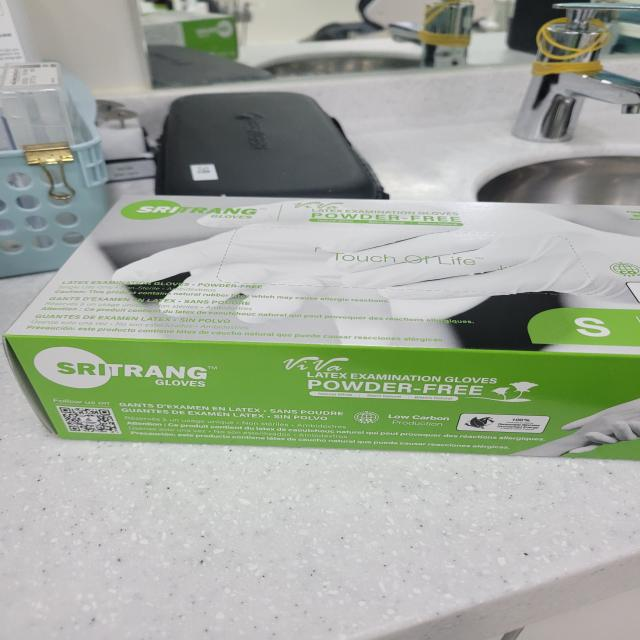glove: (0, 167, 640, 514)
